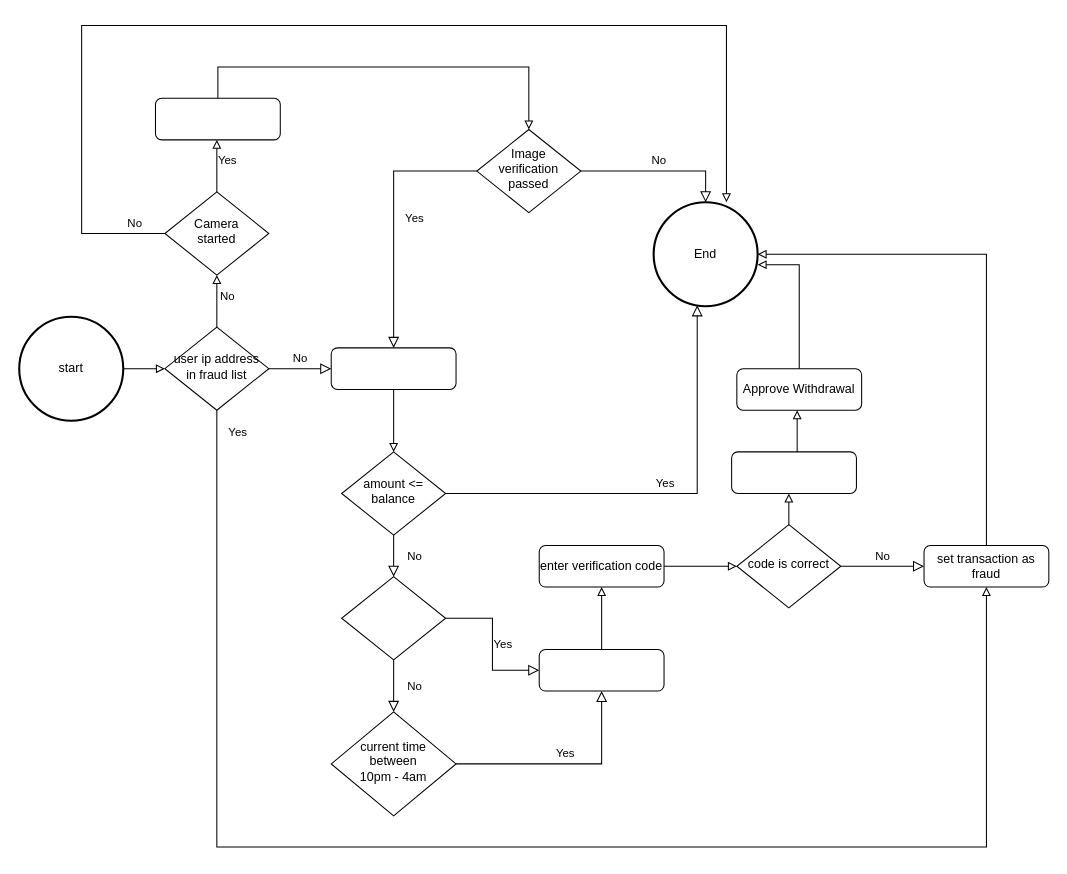
Image size: 1067x874. Some labels were removed from this diagram. The shapes that lost their labels are listed below. From the top down, each one's centre as x and y in pixels, then its label:
At [217,118]: "Capture user image".
At [393,368]: "Input Amount".
At [793,472]: "Debit User".
At [393,618]: "amount > user's max amount".
At [601,669]: "send sms/email verification".
